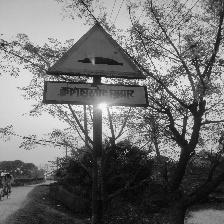Speed-breaker: (43, 22, 149, 108)
